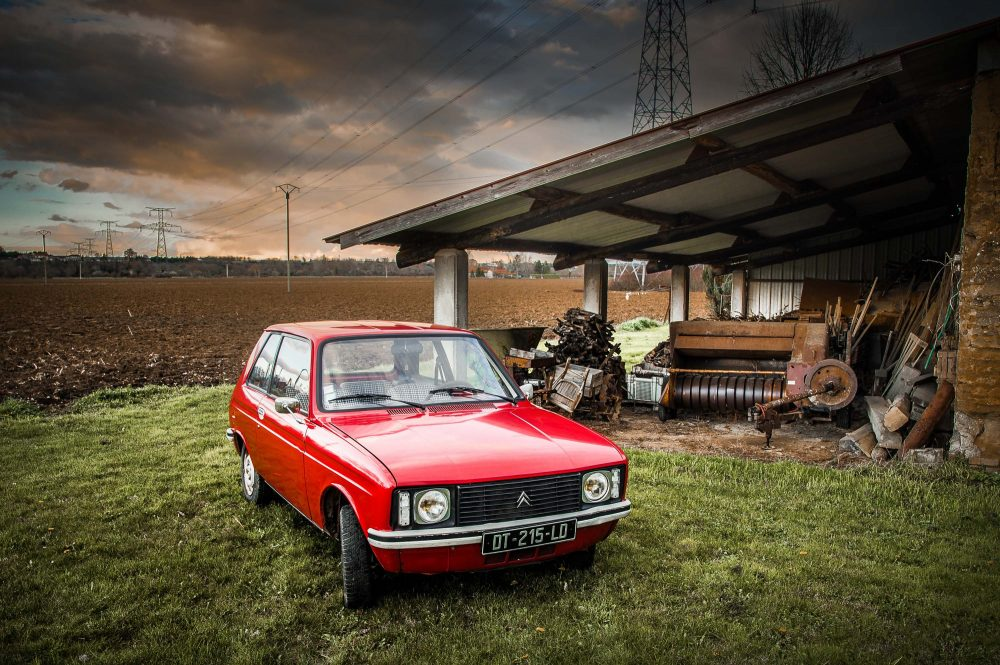car: (226, 316, 636, 613)
